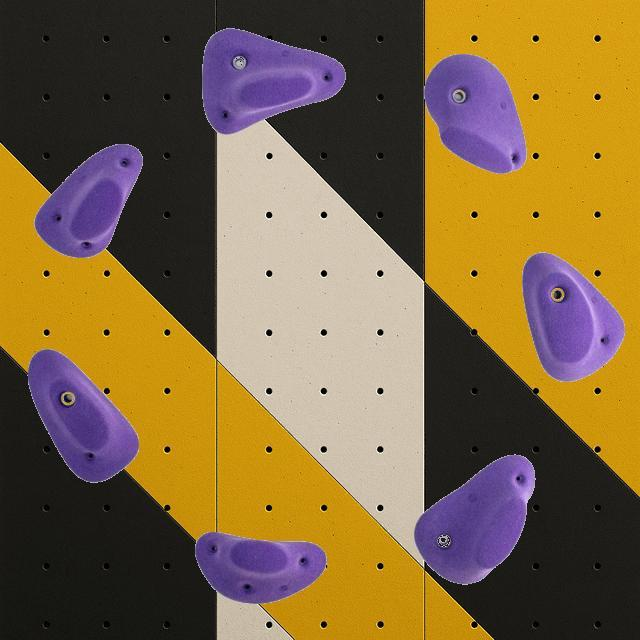Pinch: (413, 453, 535, 585), (200, 27, 346, 135), (27, 347, 140, 483), (521, 250, 625, 382), (33, 142, 143, 258), (423, 53, 527, 174), (194, 530, 326, 604)
